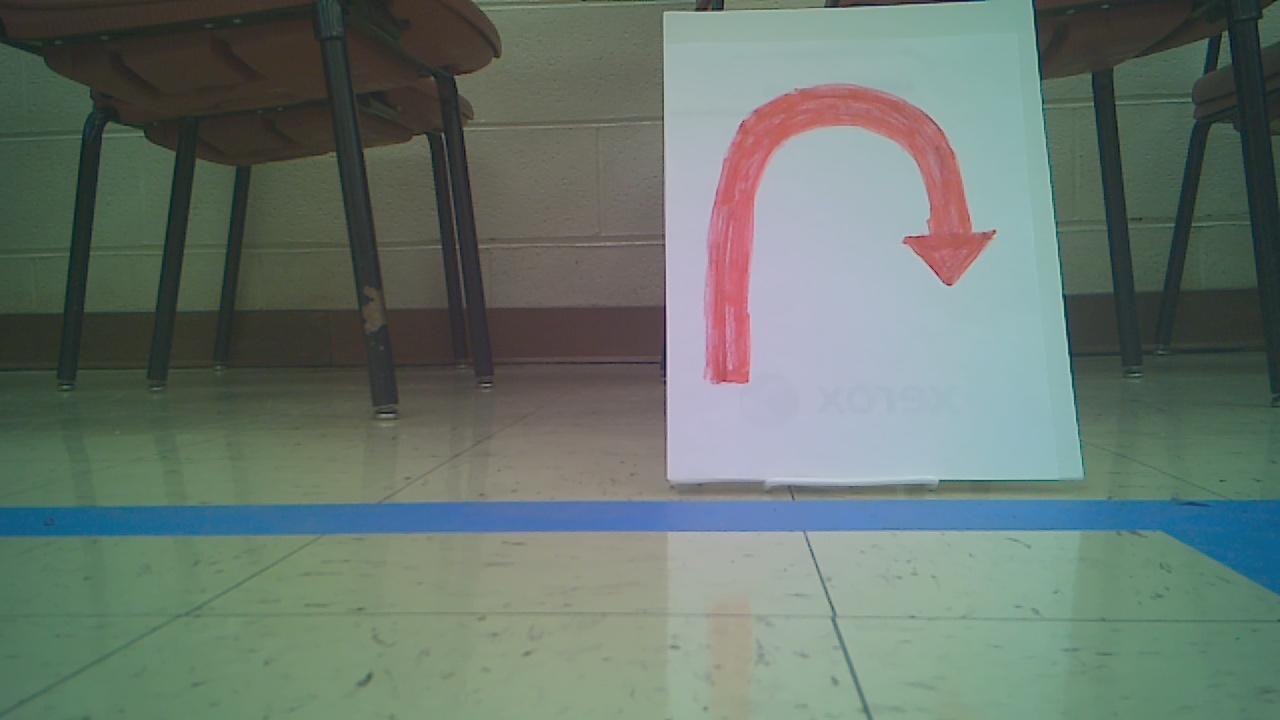uturn: (701, 77, 997, 382)
